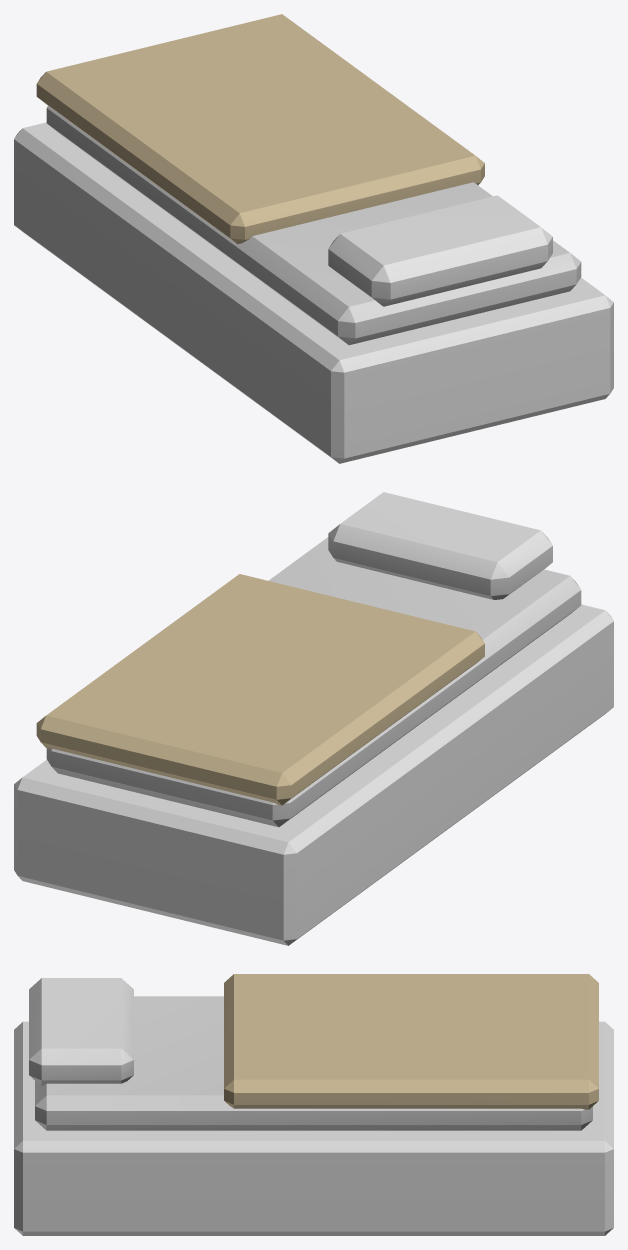
Rendered from bed_3.glb.
The picture shows the model from 3 angles, top to bottom: view 1: azimuth 30°, elevation 25°; view 2: azimuth 150°, elevation 25°; view 3: azimuth 270°, elevation 25°; orthographic projection. The views are drawn at different scales.
Visible parts, largest first — view 1: bed_blanket; view 2: bed_blanket; view 3: bed_blanket.
Boxes of the visible parts, x1,y1,x2,y2 form: bed_blanket: (14, 14, 613, 463); bed_blanket: (14, 492, 613, 945); bed_blanket: (14, 974, 613, 1235).
Size of the model in its own units: 1 by 0.6 by 2.
